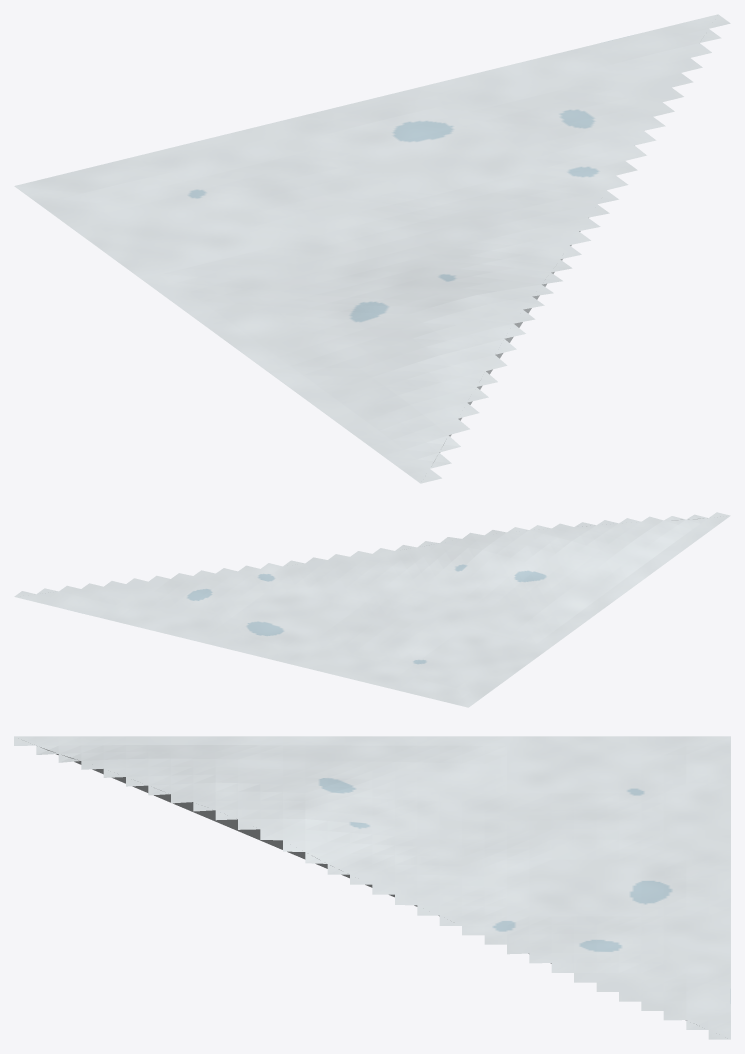
The model's file is Snow_Flat_01_SW.obj.
The picture shows the model from 3 angles, top to bottom: view 1: azimuth 30°, elevation 25°; view 2: azimuth 150°, elevation 25°; view 3: azimuth 270°, elevation 25°; orthographic projection. The views are drawn at different scales.
Size of the model in its own units: 10 by 0.1907 by 10.
Materials: 1 (1 with a texture image).
